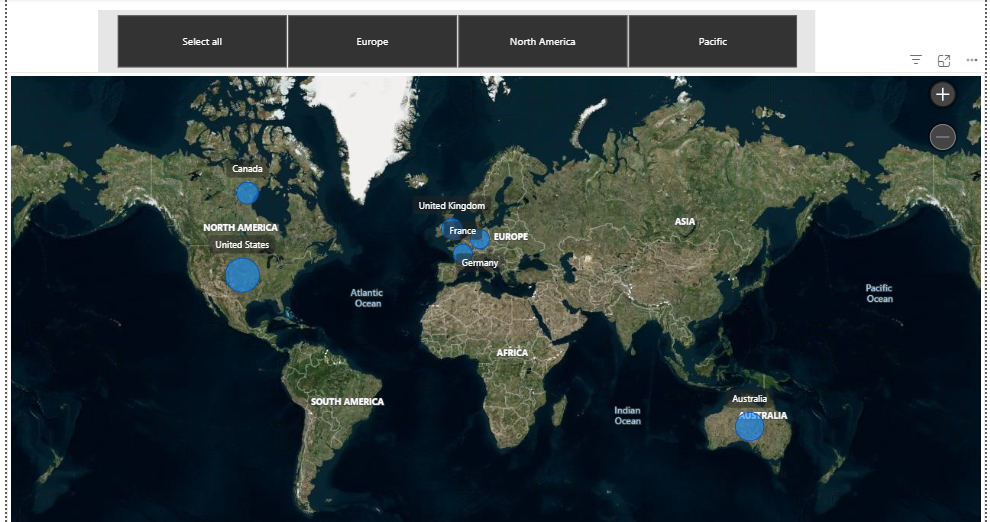

What the dashboard file says about the page in this screenshot:
{"tool":"powerbi","page":{"name":"Map","canvas":[1280,720],"ordinal":14},"visuals":[{"type":"map","fields":{"Category":["Territories Lookup.Country"],"Size":["Sales Data.Total orders"]},"box":[0,97,1280.3,622.7],"z":0},{"type":"slicer","fields":{"Values":["Territories Lookup.Continent"]},"box":[119.7,15.2,939.4,81.8],"z":1000}]}

Visuals, with their boxes on the page's 1280x720 design canvas (x1, y1, x2, y2). These are canvas units, not pixel positions in the 990x522 screenshot, which may show the page scaled, cropped or inside an application window:
map - Territories Lookup.Country x Sales Data.Total orders: box(0, 97, 1280, 720)
slicer - Territories Lookup.Continent: box(120, 15, 1059, 97)
